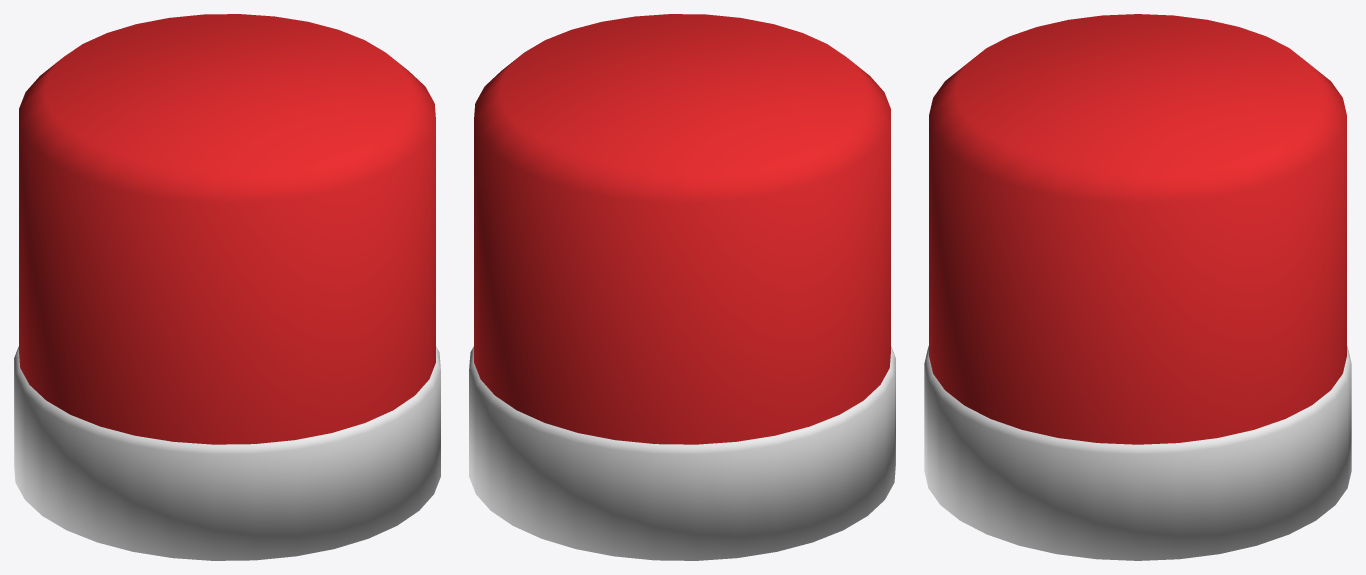
File: spinnylights.fbx
3 views of the same model, side by side, from view 1: azimuth 30°, elevation 25°; view 2: azimuth 150°, elevation 25°; view 3: azimuth 270°, elevation 25° (orthographic).
Parts seen in each view (by area): view 1: Glass, Base; view 2: Glass, Base; view 3: Glass, Base.
Part boxes in pixels (box(x1,y1,x2,y2)): Glass: box(19, 14, 435, 444); Base: box(14, 346, 440, 560); Glass: box(474, 14, 890, 444); Base: box(469, 346, 895, 560); Glass: box(929, 14, 1346, 444); Base: box(924, 346, 1351, 560).
Bounding box in the file's own units: 200 × 196 × 200.
